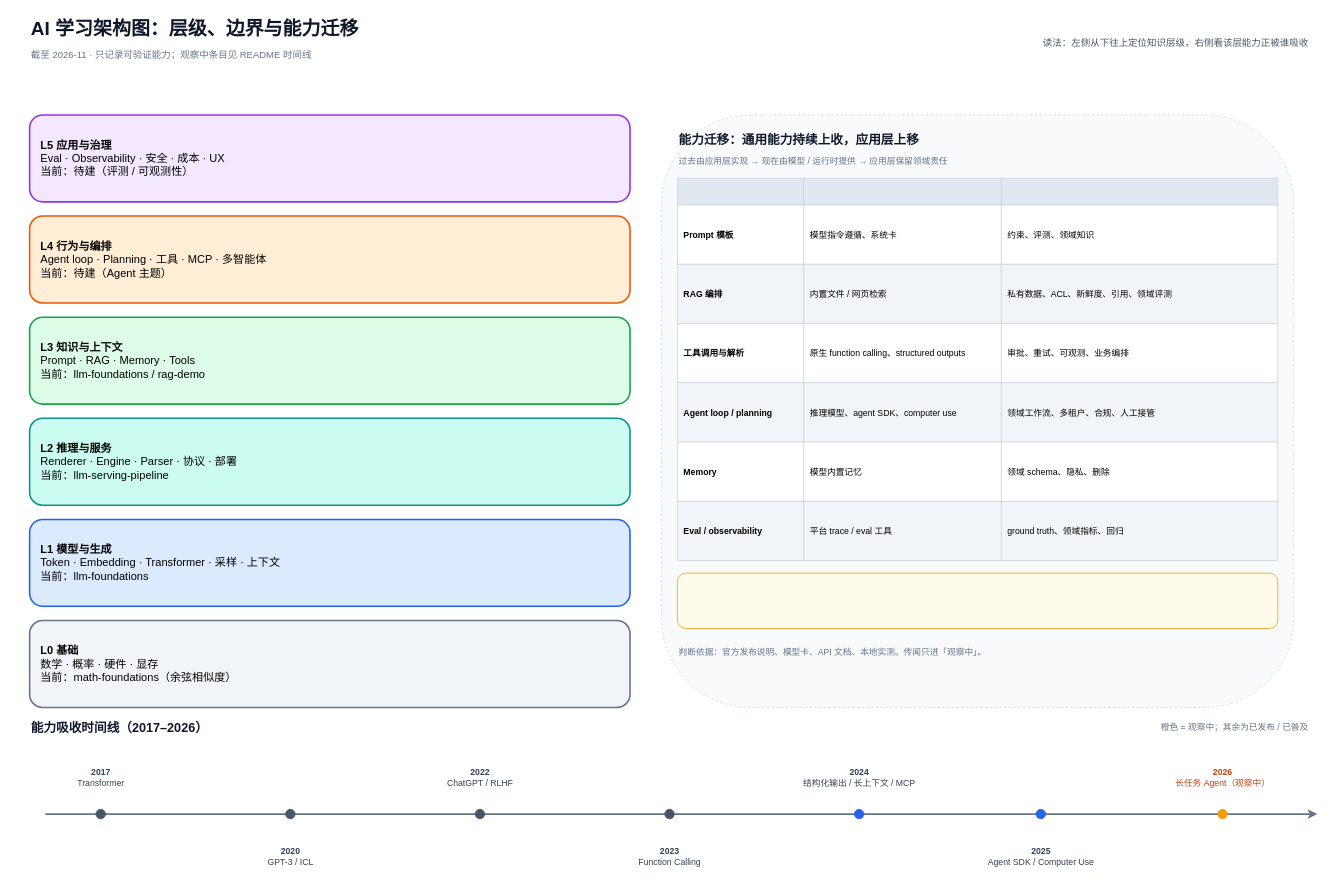
The diagram is 1337 pixels wide and 893 high, and some of its shapes have lost their labels. Here are the shapes that lost their labels. From the top down, the box of each, then its label:
(677, 177, 804, 205): 能力
(803, 177, 1001, 205): 现在被吸收到
(1001, 177, 1278, 205): 应用层还剩什么
(677, 572, 1278, 628): 被吸收的是通用编排和协议细节； 留下的是领域知识、权限责任、评测与运维。
